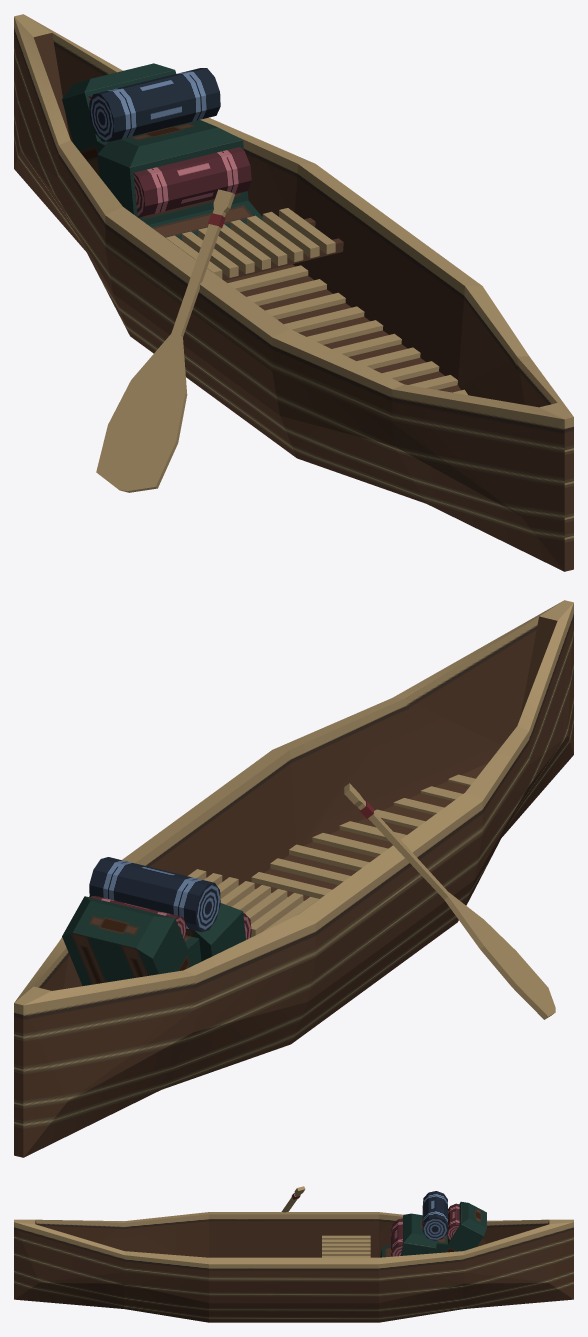
3 views of the same model, one above another, from view 1: azimuth 30°, elevation 25°; view 2: azimuth 150°, elevation 25°; view 3: azimuth 270°, elevation 25° (orthographic). The views are drawn at different scales.
Parts seen in each view (by area): view 1: Canoe_5, Paddle_8; view 2: Canoe_5, Paddle_8; view 3: Canoe_5, Paddle_8.
Part boxes in pixels (left/top/right/bottom): Canoe_5: left=14, top=14, right=573, bottom=571; Paddle_8: left=96, top=189, right=234, bottom=492; Canoe_5: left=14, top=600, right=573, bottom=1157; Paddle_8: left=344, top=783, right=555, bottom=1019; Canoe_5: left=14, top=1191, right=573, bottom=1322; Paddle_8: left=281, top=1186, right=305, bottom=1212.
Bounding box in the file's own units: 205 × 134 × 589.
1 material, 1 textured.
